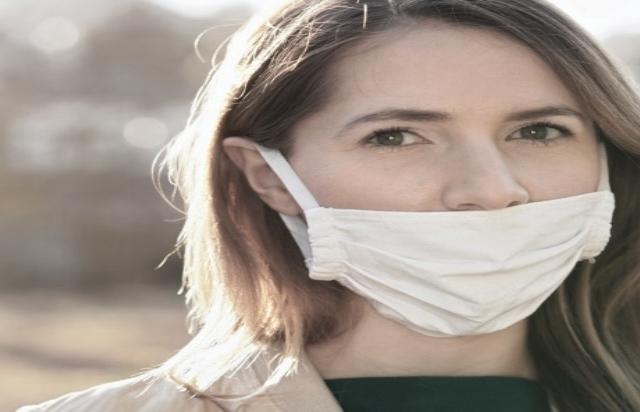mask_weared_incorrect: (183, 1, 617, 341)
